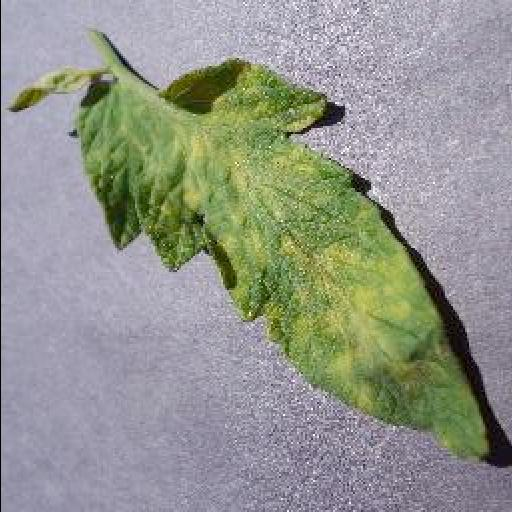disease_tomato: (74, 62, 488, 467)
